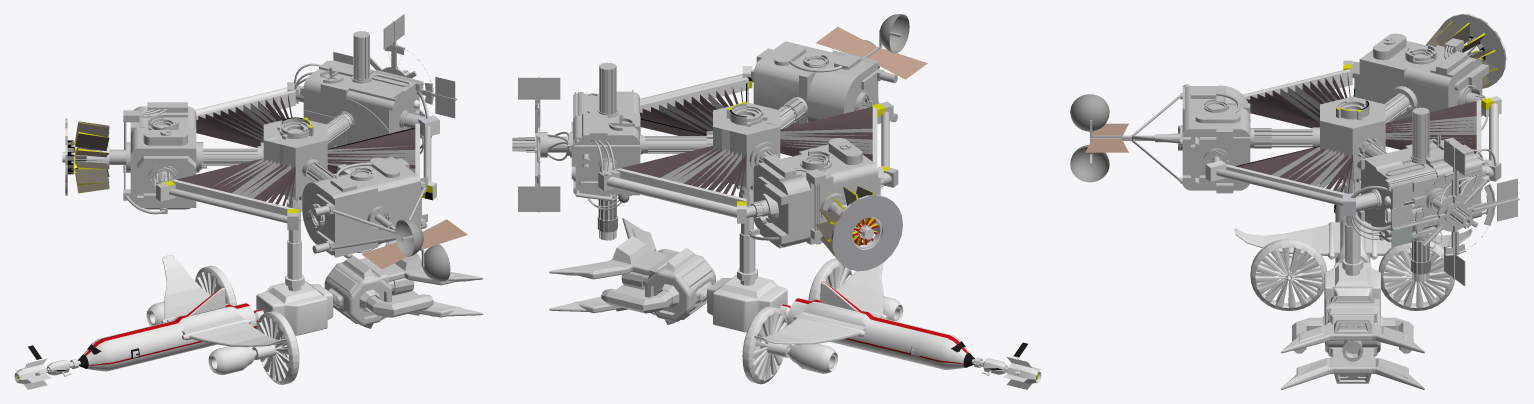
The model's file is spaceship_with_station_cabin.fbx.
3 renders of one model, left to right at view 1: azimuth 30°, elevation 25°; view 2: azimuth 150°, elevation 25°; view 3: azimuth 270°, elevation 25°, orthographic. The views are drawn at different scales.
Parts seen in each view (by area): view 1: spaceship; view 2: spaceship; view 3: spaceship.
Part boxes in pixels (bbox=[...]): spaceship: bbox=[14, 14, 483, 389]; spaceship: bbox=[512, 14, 1041, 389]; spaceship: bbox=[1070, 14, 1519, 389].
Size of the model in its own units: 3132 by 1723 by 2569.
